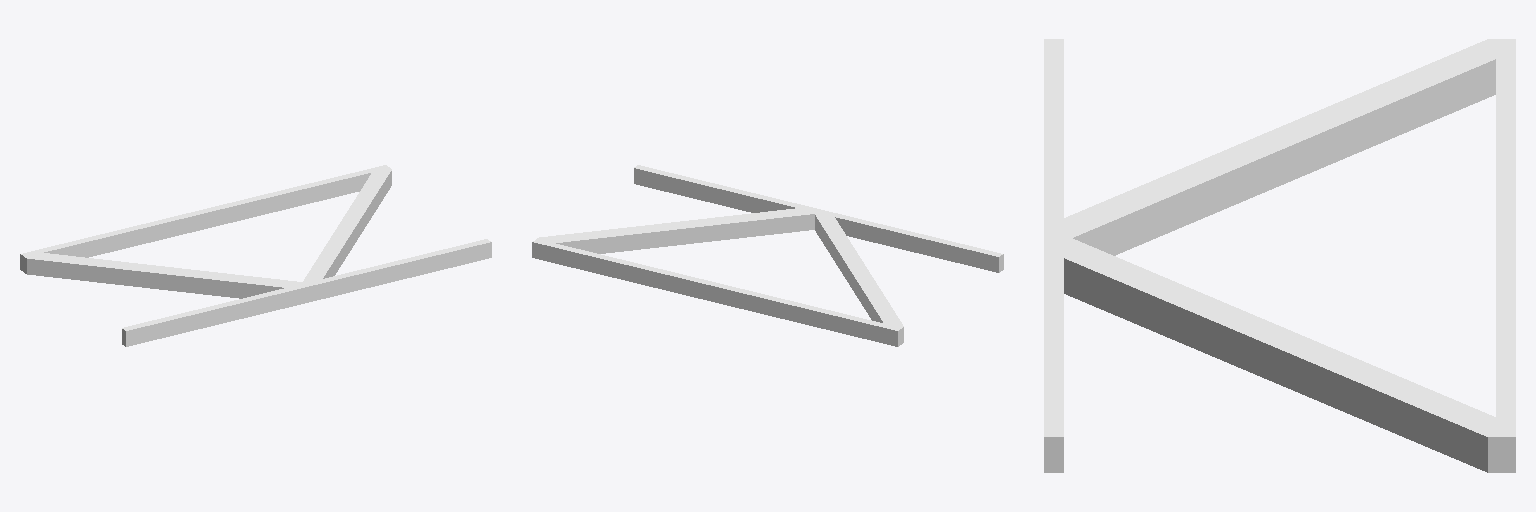
URDF robot description (terrain-rails_k_flat_2):
<?xml version="1.0" encoding="utf-8"?>
<!-- This URDF was automatically created by SolidWorks to URDF Exporter! Originally created by [author] ([email redacted]) 
     Commit Version: 1.6.0-4-g7f85cfe  Build Version: 1.6.7995.38578
     For more information, please see http://wiki.ros.org/sw_urdf_exporter -->
<robot
  name="terrain-rails_k_flat_2">
  <link
    name="base_link">
    <inertial>
      <origin
        xyz="1.2 -0.618 0.05"
        rpy="0 0 0" />
      <mass
        value="31.887" />
      <inertia
        ixx="2.124"
        ixy="1.3398E-15"
        ixz="3.995E-15"
        iyy="8.5724"
        iyz="-1.7346E-16"
        izz="10.643" />
    </inertial>
    <visual>
      <origin
        xyz="0 0 0"
        rpy="0 0 0" />
      <geometry>
        <mesh
          filename="package://terrain-rails_k_flat_2/meshes/base_link.STL" />
      </geometry>
      <material
        name="">
        <color
          rgba="1 1 1 1" />
      </material>
    </visual>
    <collision>
      <origin
        xyz="0 0 0"
        rpy="0 0 0" />
      <geometry>
        <mesh
          filename="package://terrain-rails_k_flat_2/meshes/base_link.STL" />
      </geometry>
    </collision>
  </link>
</robot>

--- Render facts (derived) ---
The picture shows the robot from 3 angles, left to right: view 1: azimuth 30°, elevation 25°; view 2: azimuth 150°, elevation 25°; view 3: azimuth 270°, elevation 25°; orthographic projection.
Robot: terrain-rails_k_flat_2 — 1 links, 0 joints (none); root link base_link; default pose: every joint at zero.
Visible links, largest first — view 1: base_link; view 2: base_link; view 3: base_link.
Link boxes in pixels (x1,y1,x2,y2): base_link: (20,165,491,346); base_link: (532,165,1003,346); base_link: (1044,39,1515,472).
Size in the robot's own frame: 2.4 by 1.2 by 0.1 metres.
Meshes: 1 distinct files referenced, 1 mesh visuals loaded (1 binary STL).